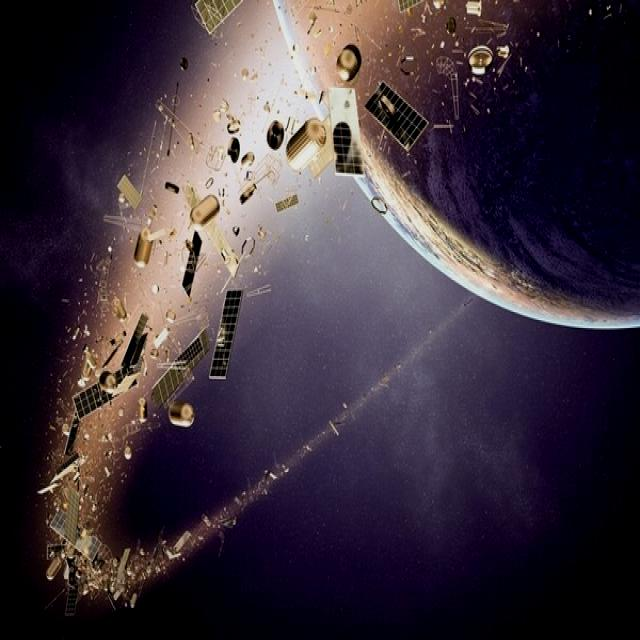medium_debris: (198, 270, 250, 388), (145, 334, 212, 401), (365, 88, 430, 150), (123, 208, 171, 267), (65, 379, 124, 413)
small_debris: (190, 200, 223, 223), (209, 95, 232, 124), (81, 256, 106, 281), (390, 46, 410, 77), (270, 193, 299, 214), (111, 572, 143, 590), (327, 414, 348, 441), (414, 4, 437, 28), (467, 19, 492, 40), (283, 37, 305, 60), (48, 419, 69, 443), (161, 540, 183, 561), (311, 2, 337, 19), (237, 485, 260, 504), (133, 397, 151, 421), (81, 423, 99, 447), (224, 138, 243, 160), (237, 65, 262, 81), (85, 496, 104, 516), (162, 177, 180, 198), (50, 494, 67, 515), (94, 309, 112, 327), (117, 440, 135, 458), (100, 462, 115, 483), (237, 64, 256, 78), (260, 99, 275, 115), (68, 327, 85, 339)
